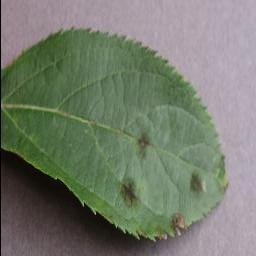apple healthy: (0, 25, 229, 242)
